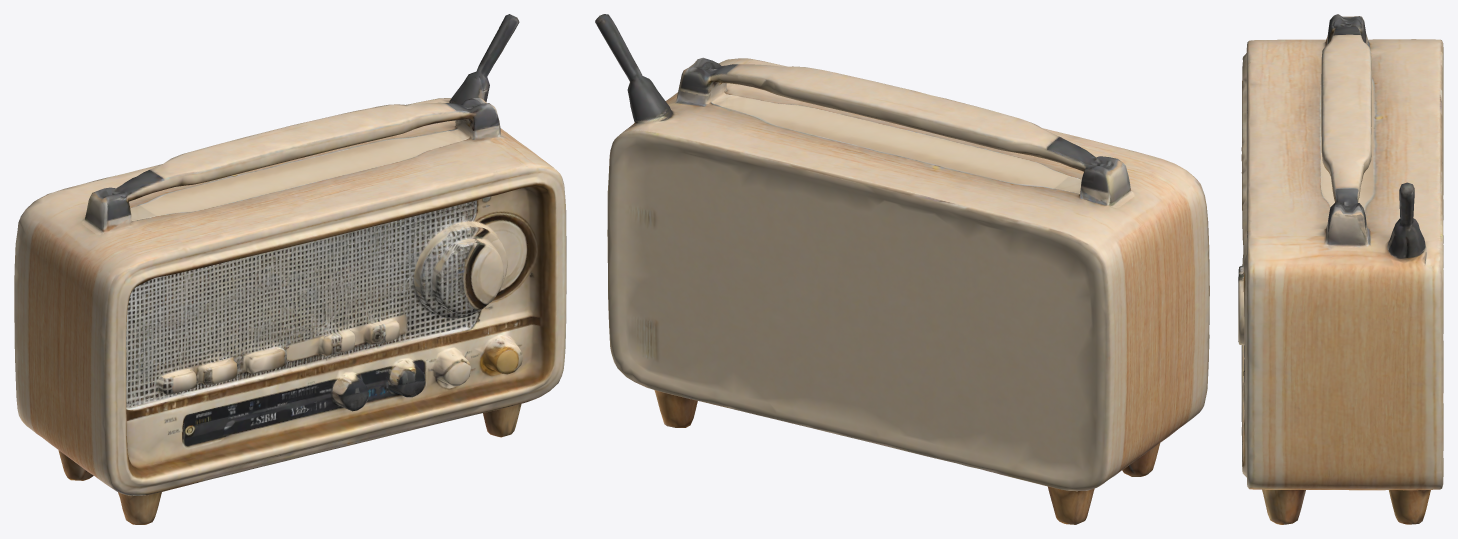
The model's file is Vintage_Harmony_Radio_0310113335_texture.fbx.
3 renders of one model, left to right at view 1: azimuth 30°, elevation 25°; view 2: azimuth 150°, elevation 25°; view 3: azimuth 270°, elevation 25°, orthographic. The views are drawn at different scales.
Parts seen in each view (by area): view 1: Mesh1_Mesh1.025; view 2: Mesh1_Mesh1.025; view 3: Mesh1_Mesh1.025.
Part boxes in pixels (x1,y1,x2,y2): Mesh1_Mesh1.025: [14, 14, 566, 524]; Mesh1_Mesh1.025: [595, 14, 1209, 524]; Mesh1_Mesh1.025: [1238, 14, 1443, 524].
Size of the model in its own units: 200 by 140 by 70.15.
Materials: 1 (1 with a texture image).
